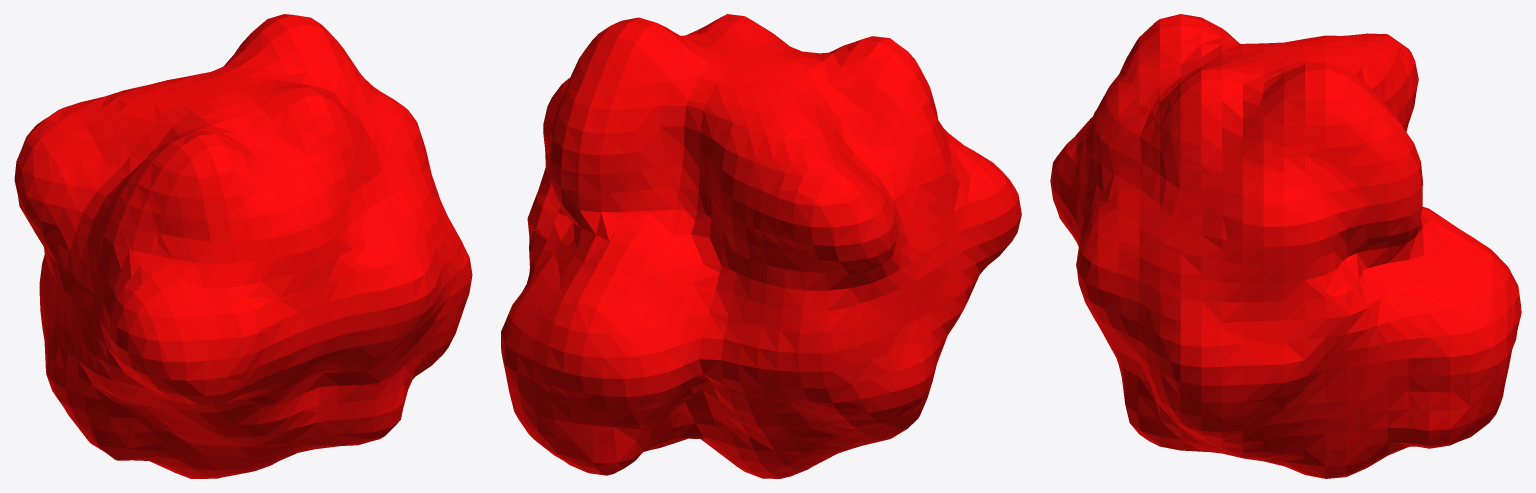
The model's file is adk_coarse.dae.
3 renders of one model, left to right at view 1: azimuth 30°, elevation 25°; view 2: azimuth 150°, elevation 25°; view 3: azimuth 270°, elevation 25°, orthographic. The views are drawn at different scales.
Visible parts, largest first — view 1: adk; view 2: adk; view 3: adk.
Boxes of the visible parts, left/top/right/bottom form: adk: left=14, top=14, right=472, bottom=478; adk: left=501, top=14, right=1021, bottom=478; adk: left=1050, top=14, right=1521, bottom=478.
Size of the model in its own units: 45.49 by 47.26 by 47.34.
